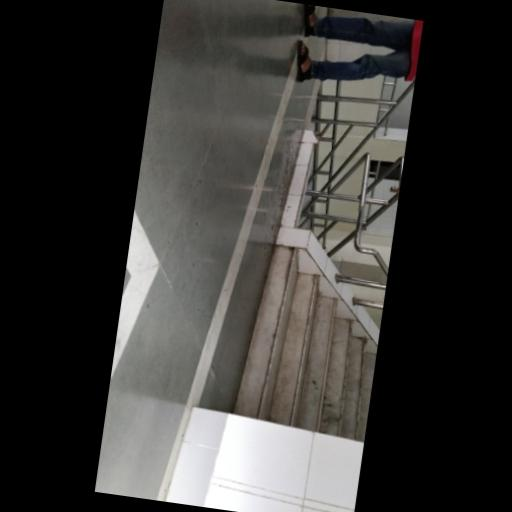stairs: (233, 244, 376, 440)
